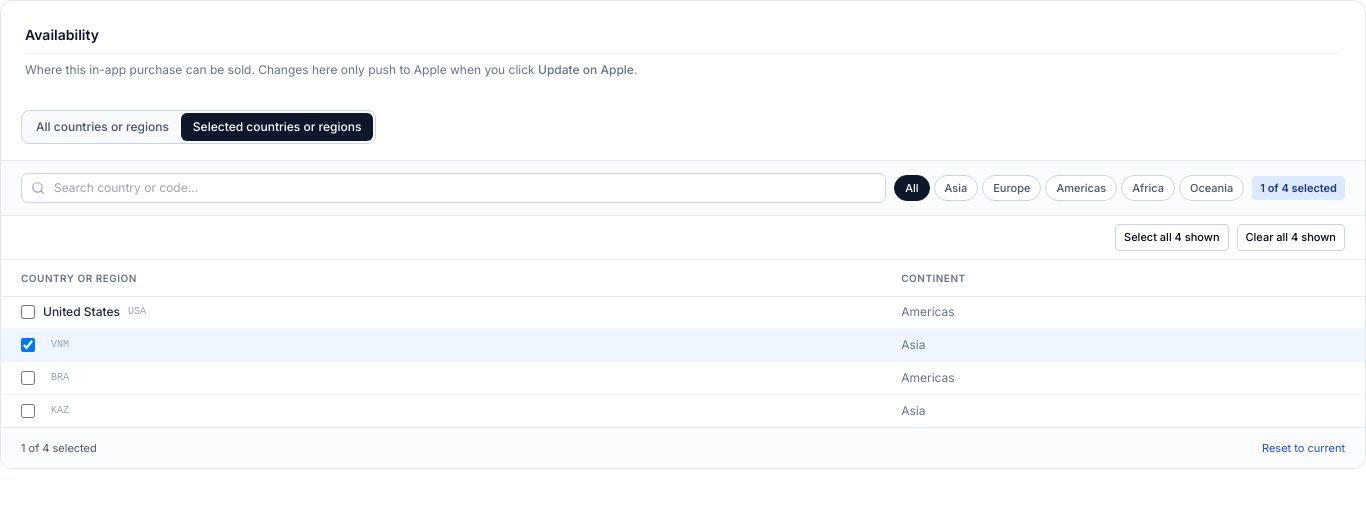
Scenario: default selection › surfaces the pending change once a territory is toggled
Click the checkbox labelled "United States USA" at x=28, y=312, box [21,304,35,318]
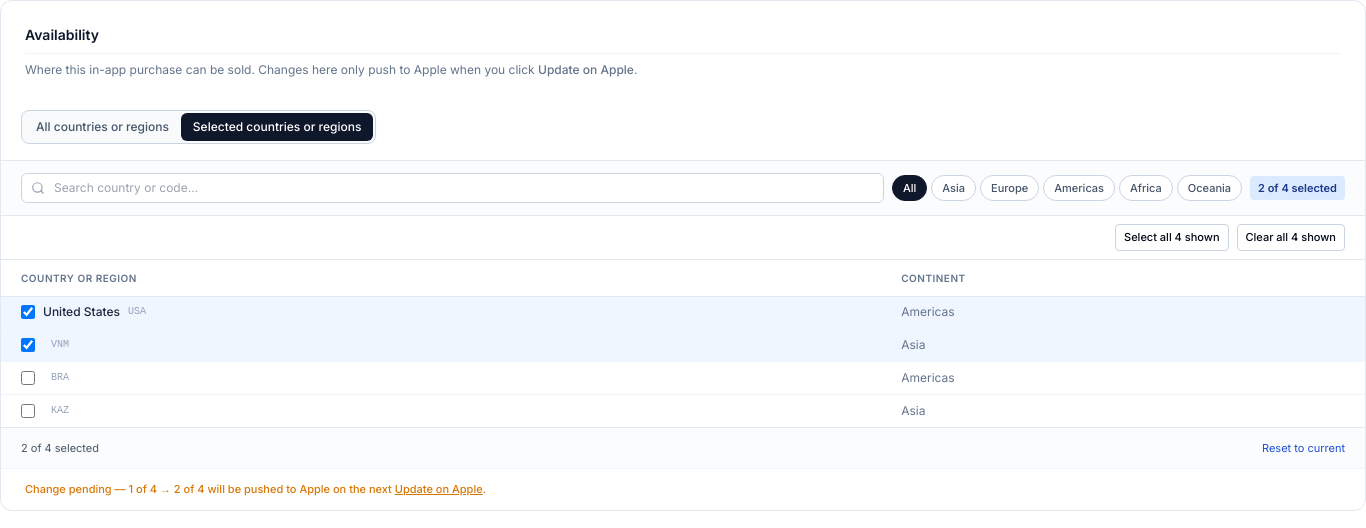
expect the element with test id "availabilities-pending" shows "1 of 4": met, box [128,482,204,496]
expect the element with test id "availabilities-pending" shows "2 of 4": met, box [128,482,204,496]
